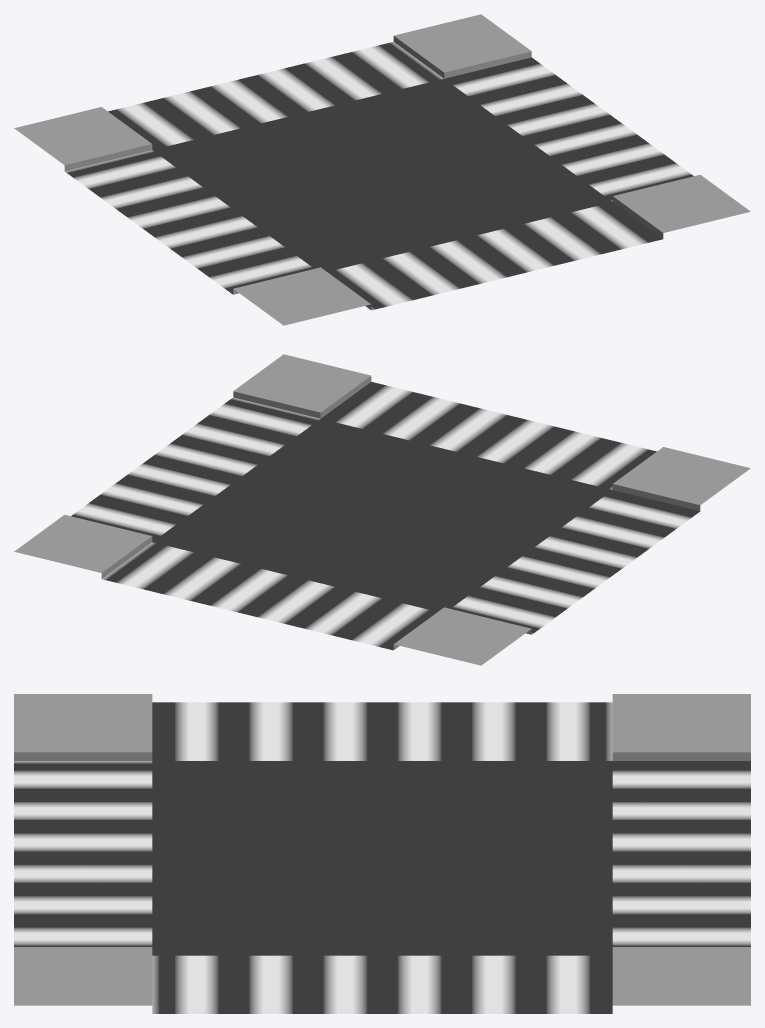
Rendered from Road_Cross.obj.
The picture shows the model from 3 angles, top to bottom: view 1: azimuth 30°, elevation 25°; view 2: azimuth 150°, elevation 25°; view 3: azimuth 270°, elevation 25°; orthographic projection. The views are drawn at different scales.
Parts seen in each view (by area): view 1: Road_Cross_Plane; view 2: Road_Cross_Plane; view 3: Road_Cross_Plane.
Part boxes in pixels (x1,y1,x2,y2): Road_Cross_Plane: [14, 14, 750, 325]; Road_Cross_Plane: [14, 354, 750, 665]; Road_Cross_Plane: [14, 694, 750, 1013].
Size of the model in its own units: 16 by 0.2 by 16.
Materials: 1 (1 with a texture image).
